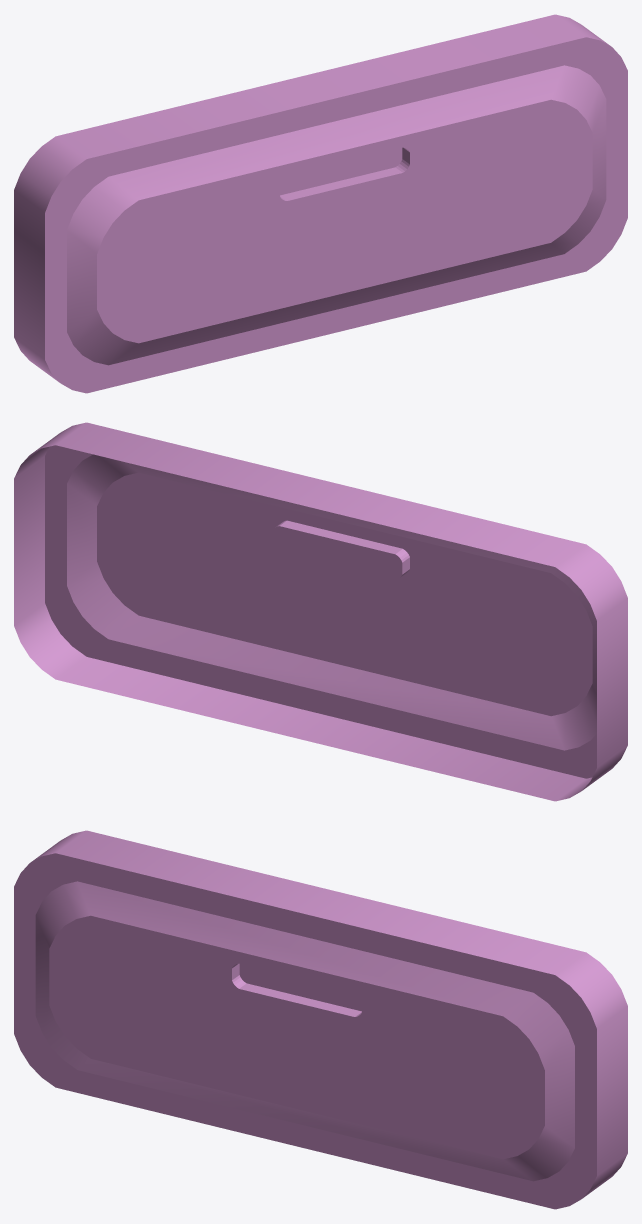
File: cajon.FBX
3 renders of one model, top to bottom at view 1: azimuth 30°, elevation 25°; view 2: azimuth 150°, elevation 25°; view 3: azimuth 330°, elevation 25°, orthographic.
Visible parts, largest first — view 1: cajon_low; view 2: cajon_low; view 3: cajon_low.
Boxes of the visible parts, x1,y1,x2,y2 form: cajon_low: [14, 14, 627, 393]; cajon_low: [14, 422, 627, 801]; cajon_low: [14, 830, 627, 1209].
Bounding box in the file's own units: 17.52 × 6.73 × 2.06.
